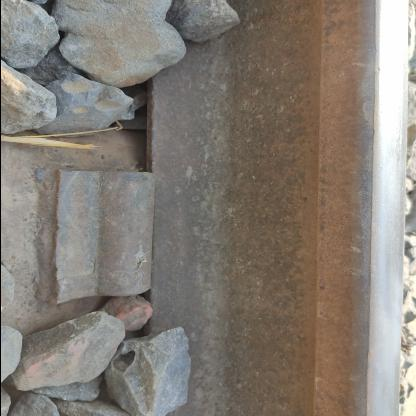Defective 1: (15, 144, 184, 349)
